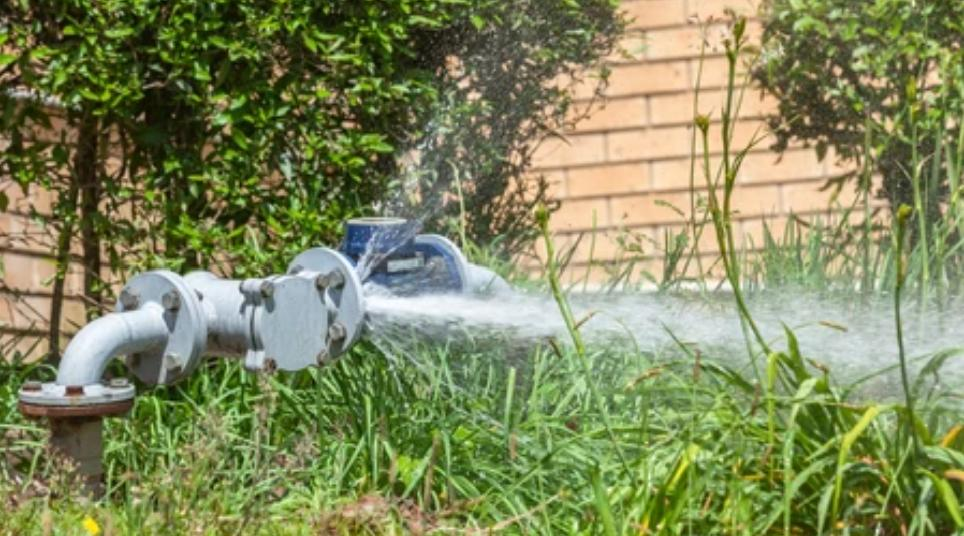pipe burst: (354, 289, 964, 410), (353, 66, 529, 283)
